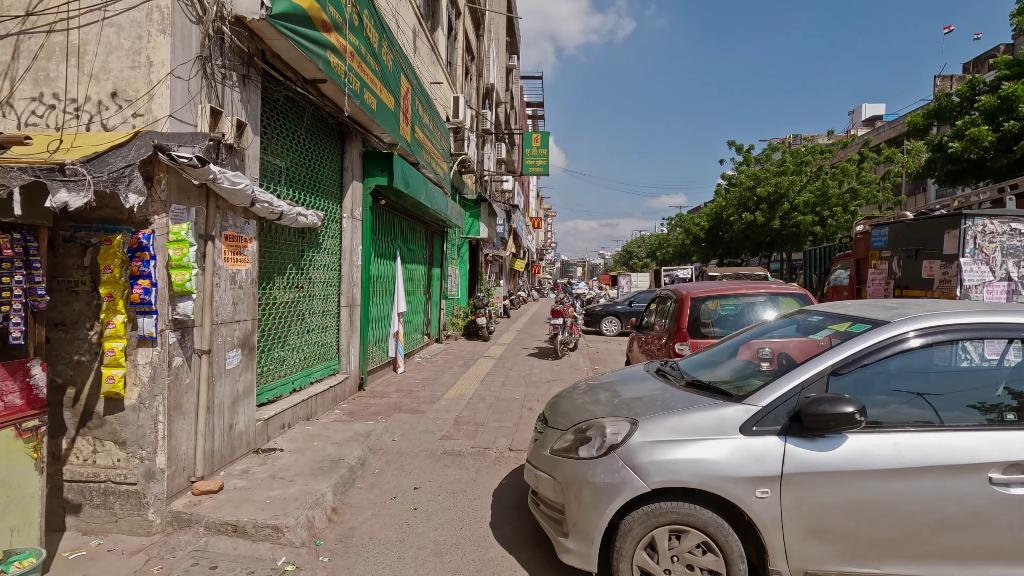garbage: (195, 479, 223, 493)
